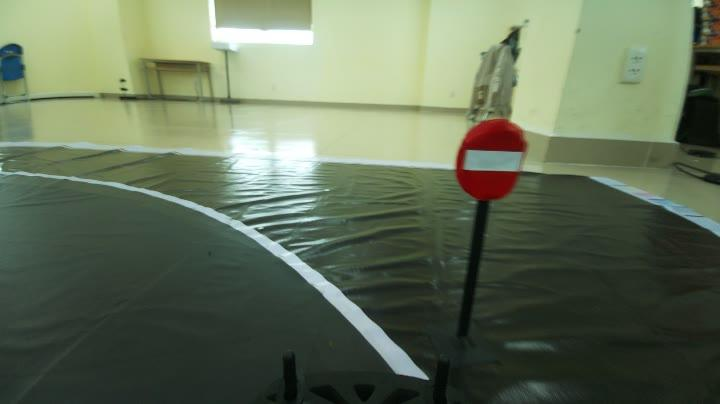no_entry: (458, 114, 537, 206)
